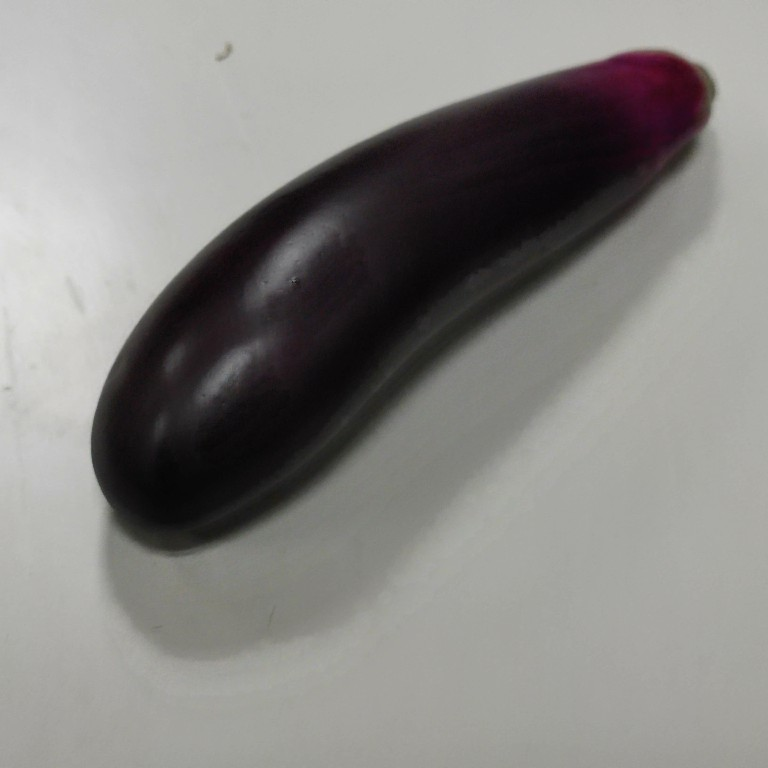fruit_eggplant: (84, 39, 725, 542)
